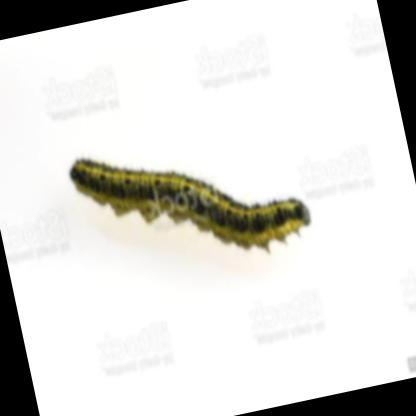pieris: (67, 157, 310, 245)
